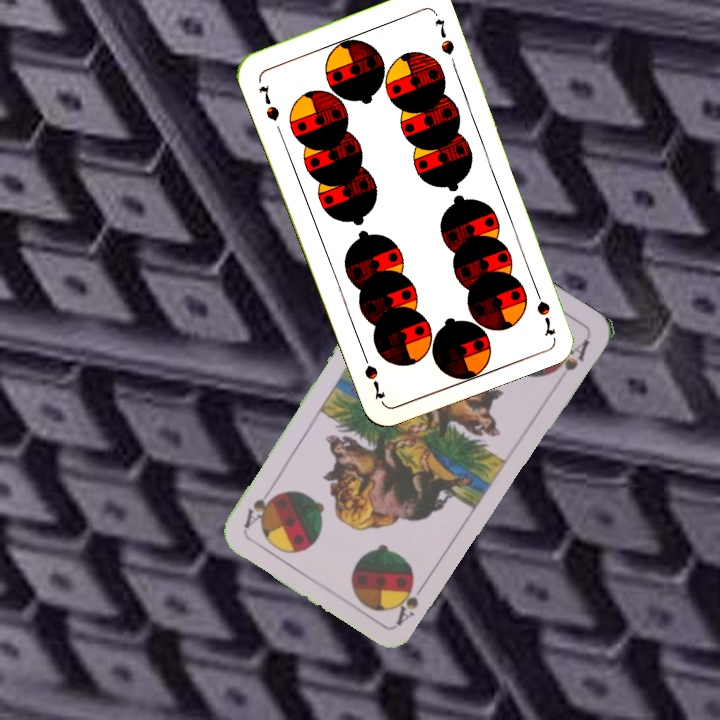S7: (529, 281, 558, 339), (255, 81, 282, 124)
SA: (392, 575, 431, 628)
